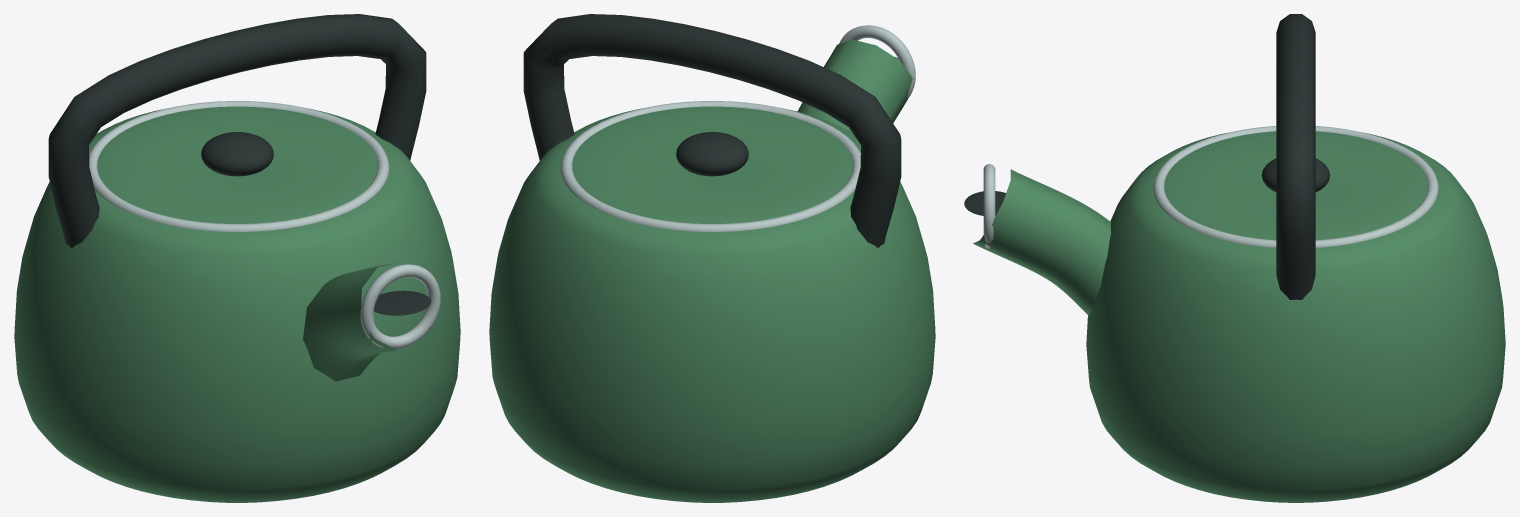
The model's file is kettle.glb.
3 renders of one model, left to right at view 1: azimuth 30°, elevation 25°; view 2: azimuth 150°, elevation 25°; view 3: azimuth 270°, elevation 25°, orthographic. The views are drawn at different scales.
Visible parts, largest first — view 1: green, dark, steel; view 2: green, dark, steel; view 3: green, dark, steel.
Part boxes in pixels (<box>): green: <box>14,106,460,502</box>; dark: <box>48,14,431,315</box>; steel: <box>89,101,440,348</box>; green: <box>489,39,935,502</box>; dark: <box>523,14,901,247</box>; steel: <box>560,25,915,231</box>; green: <box>973,131,1505,502</box>; dark: <box>964,14,1330,299</box>; steel: <box>983,126,1438,248</box>.
Bounding box in the file's own units: 0.5512 × 0.5558 × 0.7116.
